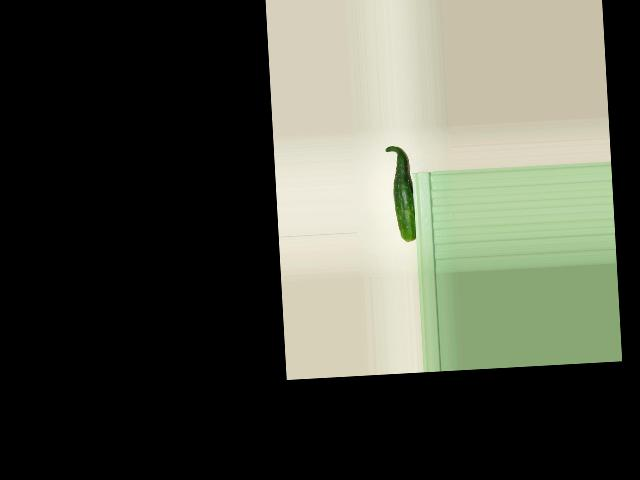cucumber: (385, 144, 416, 242)
